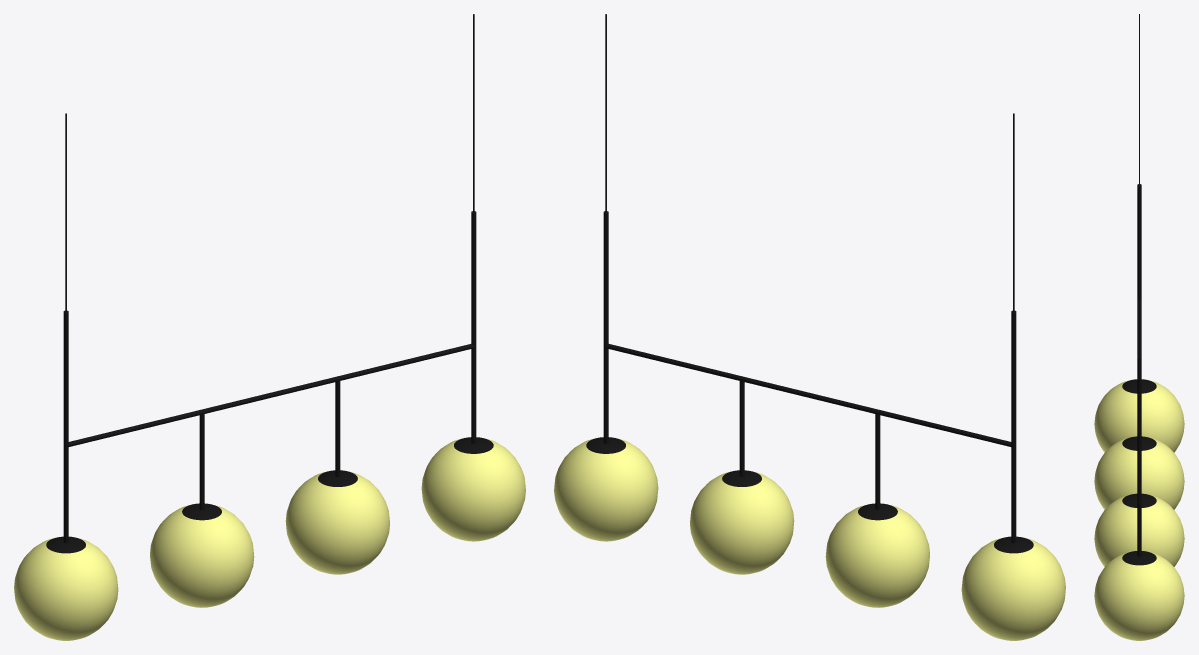
Rendered from MSH_Lampara_Circular.FBX.
3 renders of one model, left to right at view 1: azimuth 30°, elevation 25°; view 2: azimuth 150°, elevation 25°; view 3: azimuth 270°, elevation 25°, orthographic. The views are drawn at different scales.
Parts seen in each view (by area): view 1: MSH_Lampara_Circular; view 2: MSH_Lampara_Circular; view 3: MSH_Lampara_Circular.
Part boxes in pixels (box(x1,y1,x2,y2)): MSH_Lampara_Circular: box(14, 14, 525, 640); MSH_Lampara_Circular: box(554, 14, 1065, 640); MSH_Lampara_Circular: box(1094, 14, 1184, 640).
Bounding box in the file's own units: 220 × 220 × 40.
